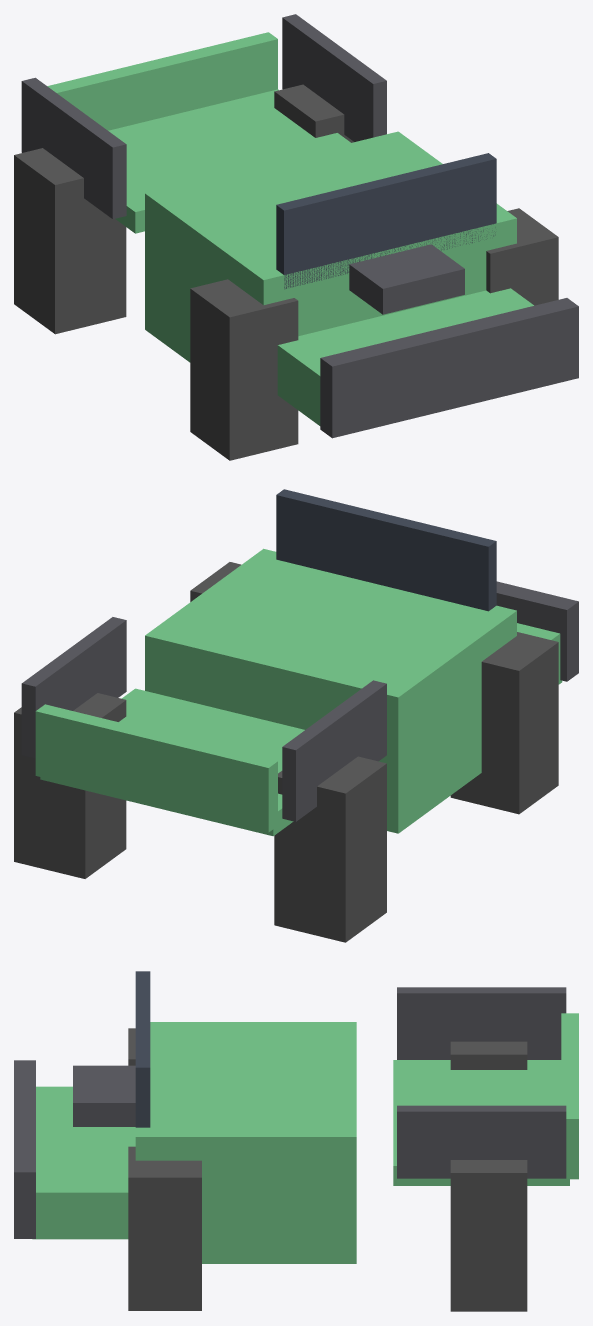
The model's file is bison.glb.
The picture shows the model from 3 angles, top to bottom: view 1: azimuth 30°, elevation 25°; view 2: azimuth 150°, elevation 25°; view 3: azimuth 270°, elevation 25°; orthographic projection. The views are drawn at different scales.
Parts seen in each view (by area): view 1: BodyPaint, Dark, Tire, Glass; view 2: BodyPaint, Tire, Dark, Glass; view 3: BodyPaint, Dark, Tire, Glass.
Part boxes in pixels (left/top/right/bottom): BodyPaint: left=47, top=32, right=533, bottom=425; Dark: left=21, top=14, right=578, bottom=438; Tire: left=14, top=84, right=558, bottom=460; Glass: left=276, top=153, right=496, bottom=289; BodyPaint: left=35, top=548, right=562, bottom=836; Tire: left=14, top=562, right=558, bottom=942; Dark: left=21, top=581, right=578, bottom=821; Glass: left=276, top=489, right=496, bottom=611; BodyPaint: left=32, top=1013, right=578, bottom=1263; Dark: left=14, top=987, right=566, bottom=1238; Tire: left=128, top=1028, right=527, bottom=1311; Glass: left=135, top=971, right=150, bottom=1127.
Bounding box in the file's own units: 2.42 × 1.62 × 3.84.
